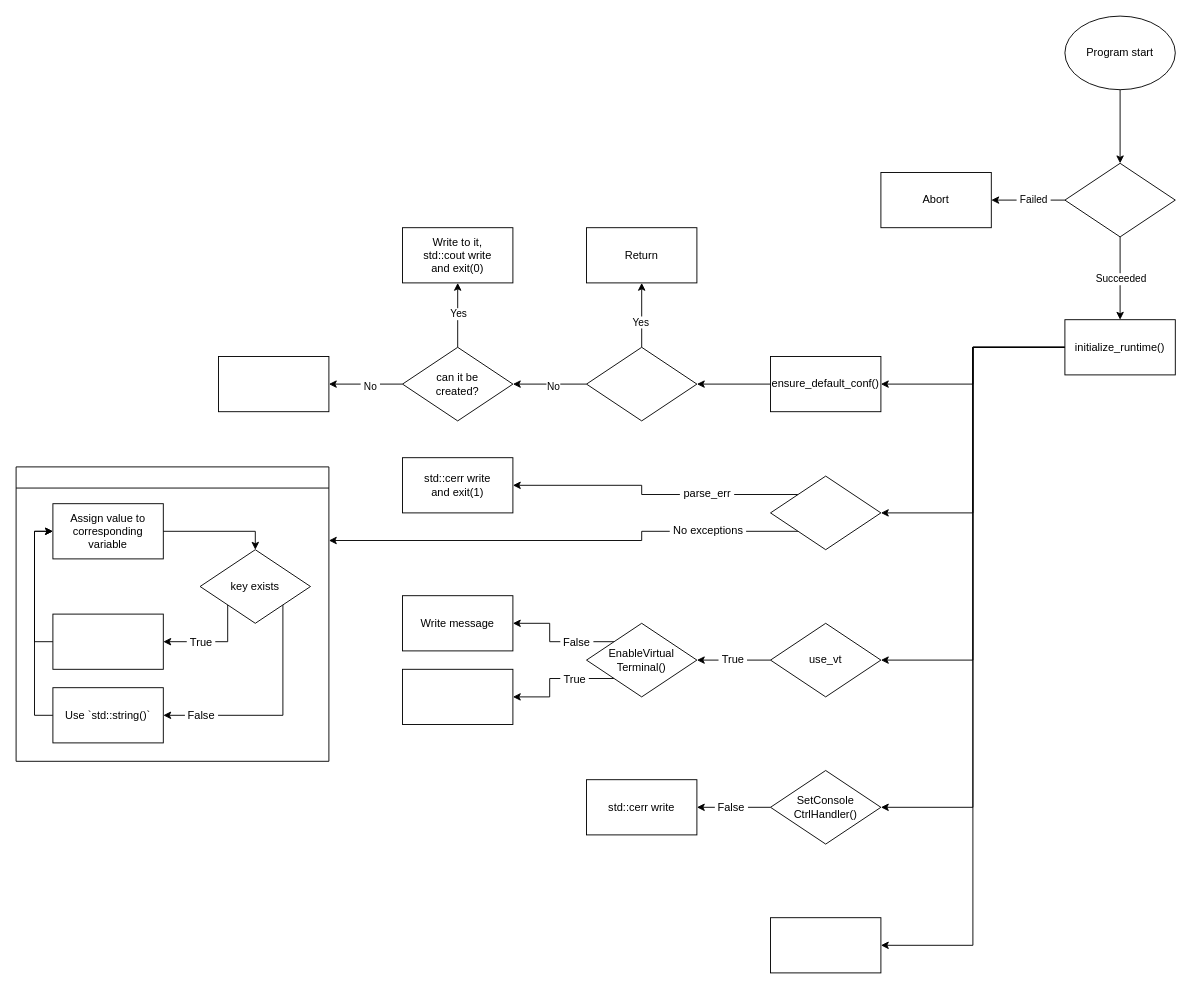
This 1191x989 diagram has some shape labels left out. The shapes that lost their labels are listed below. From the top down, each one's box as (x1, y1, x2, y2) in pixels, then its label:
(1064, 162, 1175, 237): ensure_wsa_ initialized()
(218, 356, 329, 412): Output message and return
(586, 346, 697, 421): does config file exist?
(770, 475, 881, 550): toml::parse_file()
(15, 466, 329, 761): Parse results
(52, 613, 163, 669): View key as string
(402, 668, 513, 724): vt_enabled = true;
(770, 917, 881, 973): ensure_log_location()
